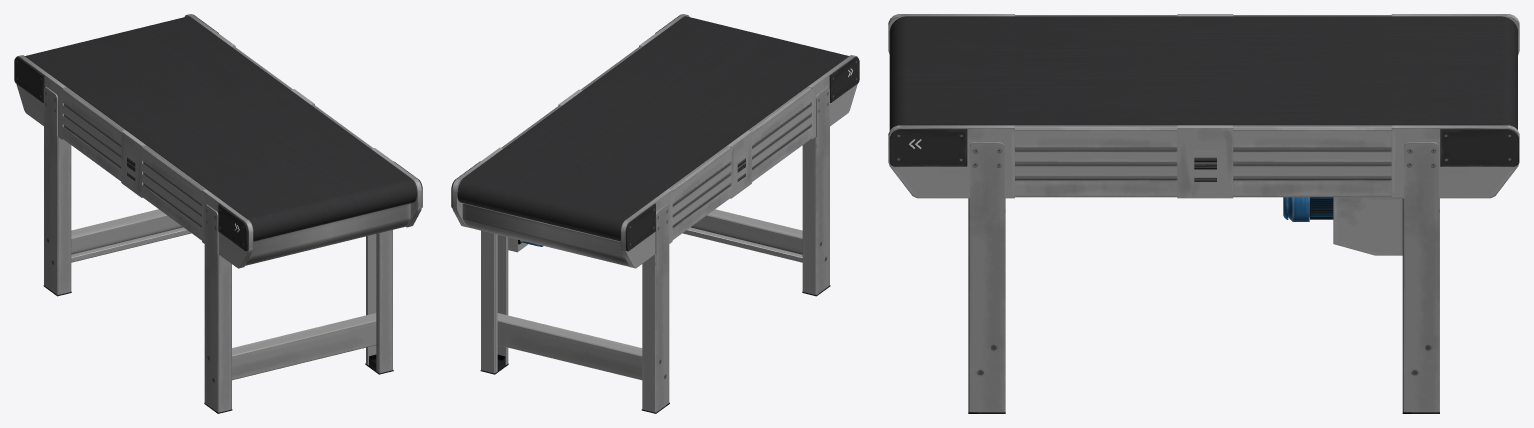
Rendered from BeltConveyor2M.glb.
The picture shows the model from 3 angles, left to right: view 1: azimuth 30°, elevation 25°; view 2: azimuth 150°, elevation 25°; view 3: azimuth 270°, elevation 25°; orthographic projection. The views are drawn at different scales.
Parts seen in each view (by area): view 1: BeltConveyor2M; view 2: BeltConveyor2M; view 3: BeltConveyor2M.
Part boxes in pixels (x1,y1,x2,y2): BeltConveyor2M: (14, 14, 422, 413); BeltConveyor2M: (451, 14, 859, 413); BeltConveyor2M: (888, 14, 1519, 413).
Size of the model in its own units: 0.8743 by 0.9975 by 2.
3 materials, 3 textured.
